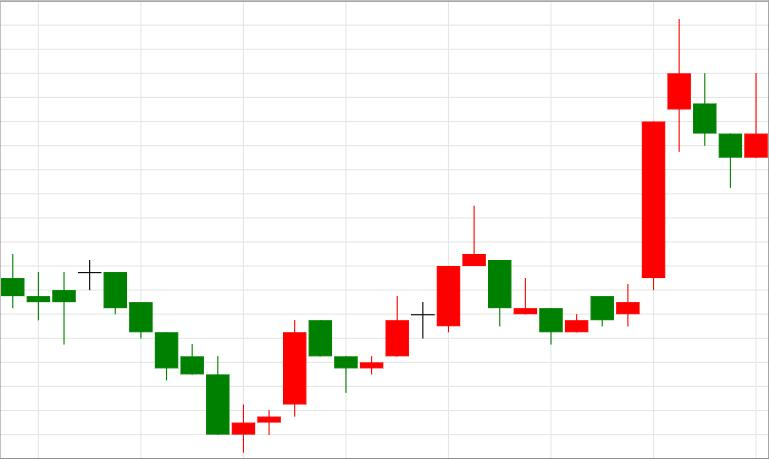evening_star_fall: (334, 205, 512, 392)
